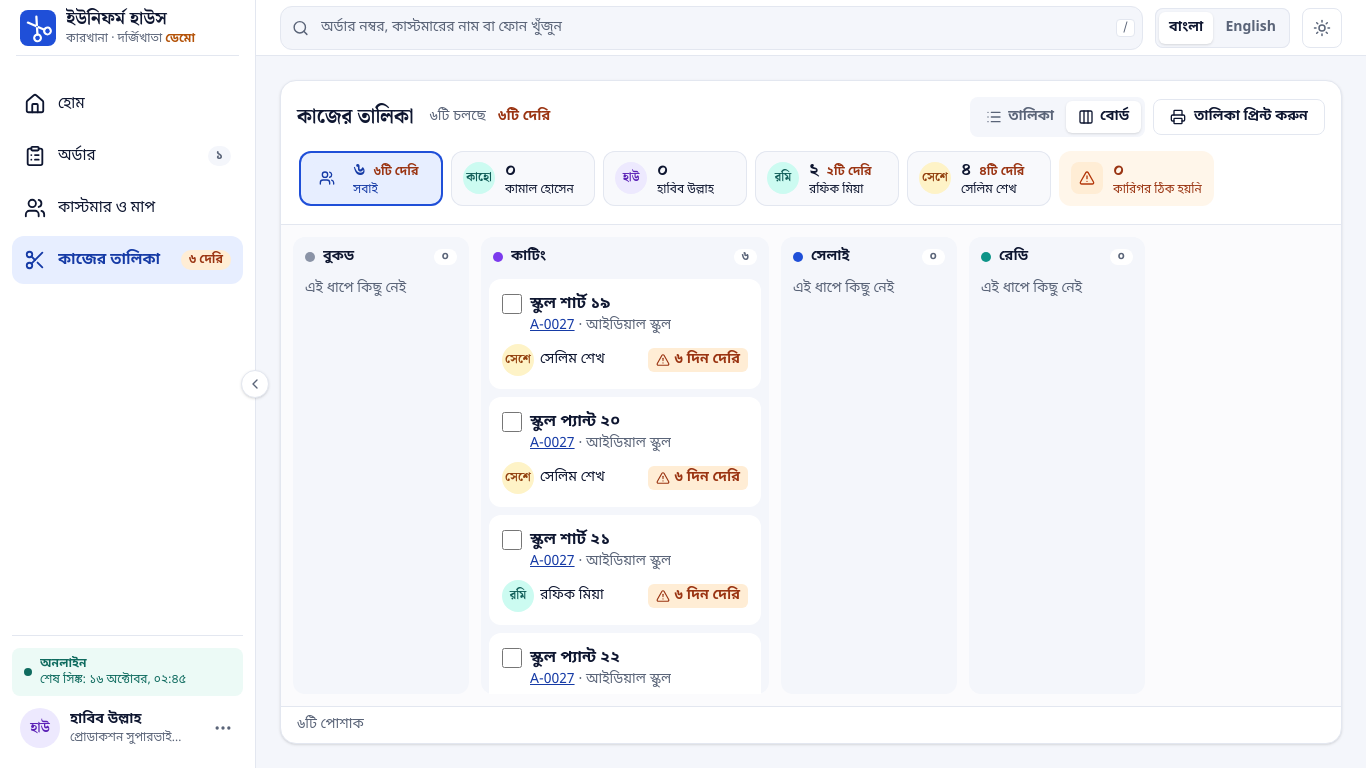
Work board › ticks a garment when its card is clicked, but not when its order link is
This screenshot has width=1366, height=768.
Click the list item that starts with "স্কুল শার্ট ১৯". click: coordinates (625, 334)
box: [489, 278, 761, 388]
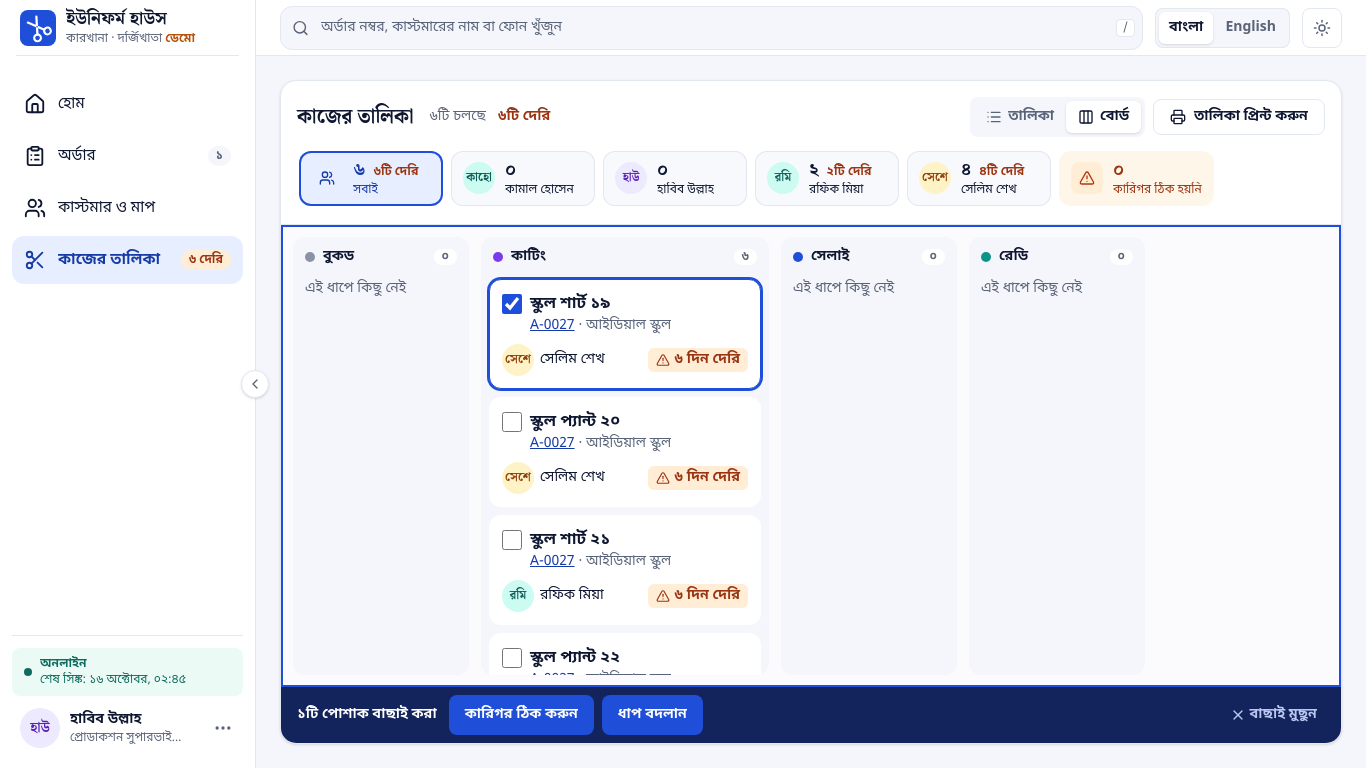
expect the checkbox named "A-0027 স্কুল শার্ট ১৯ বেছে নিন" is checked: met, box [502, 294, 522, 314]
expect the element named "বাছাই করা পোশাক" is shown: met, box [281, 687, 1341, 743]
